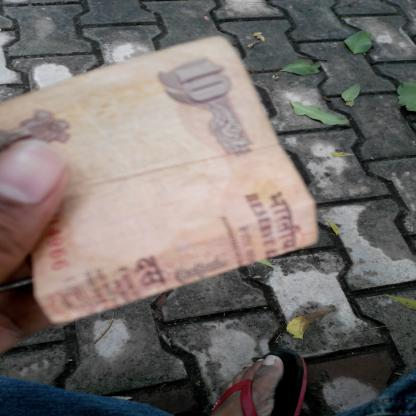Old10Front: (0, 35, 321, 325)
